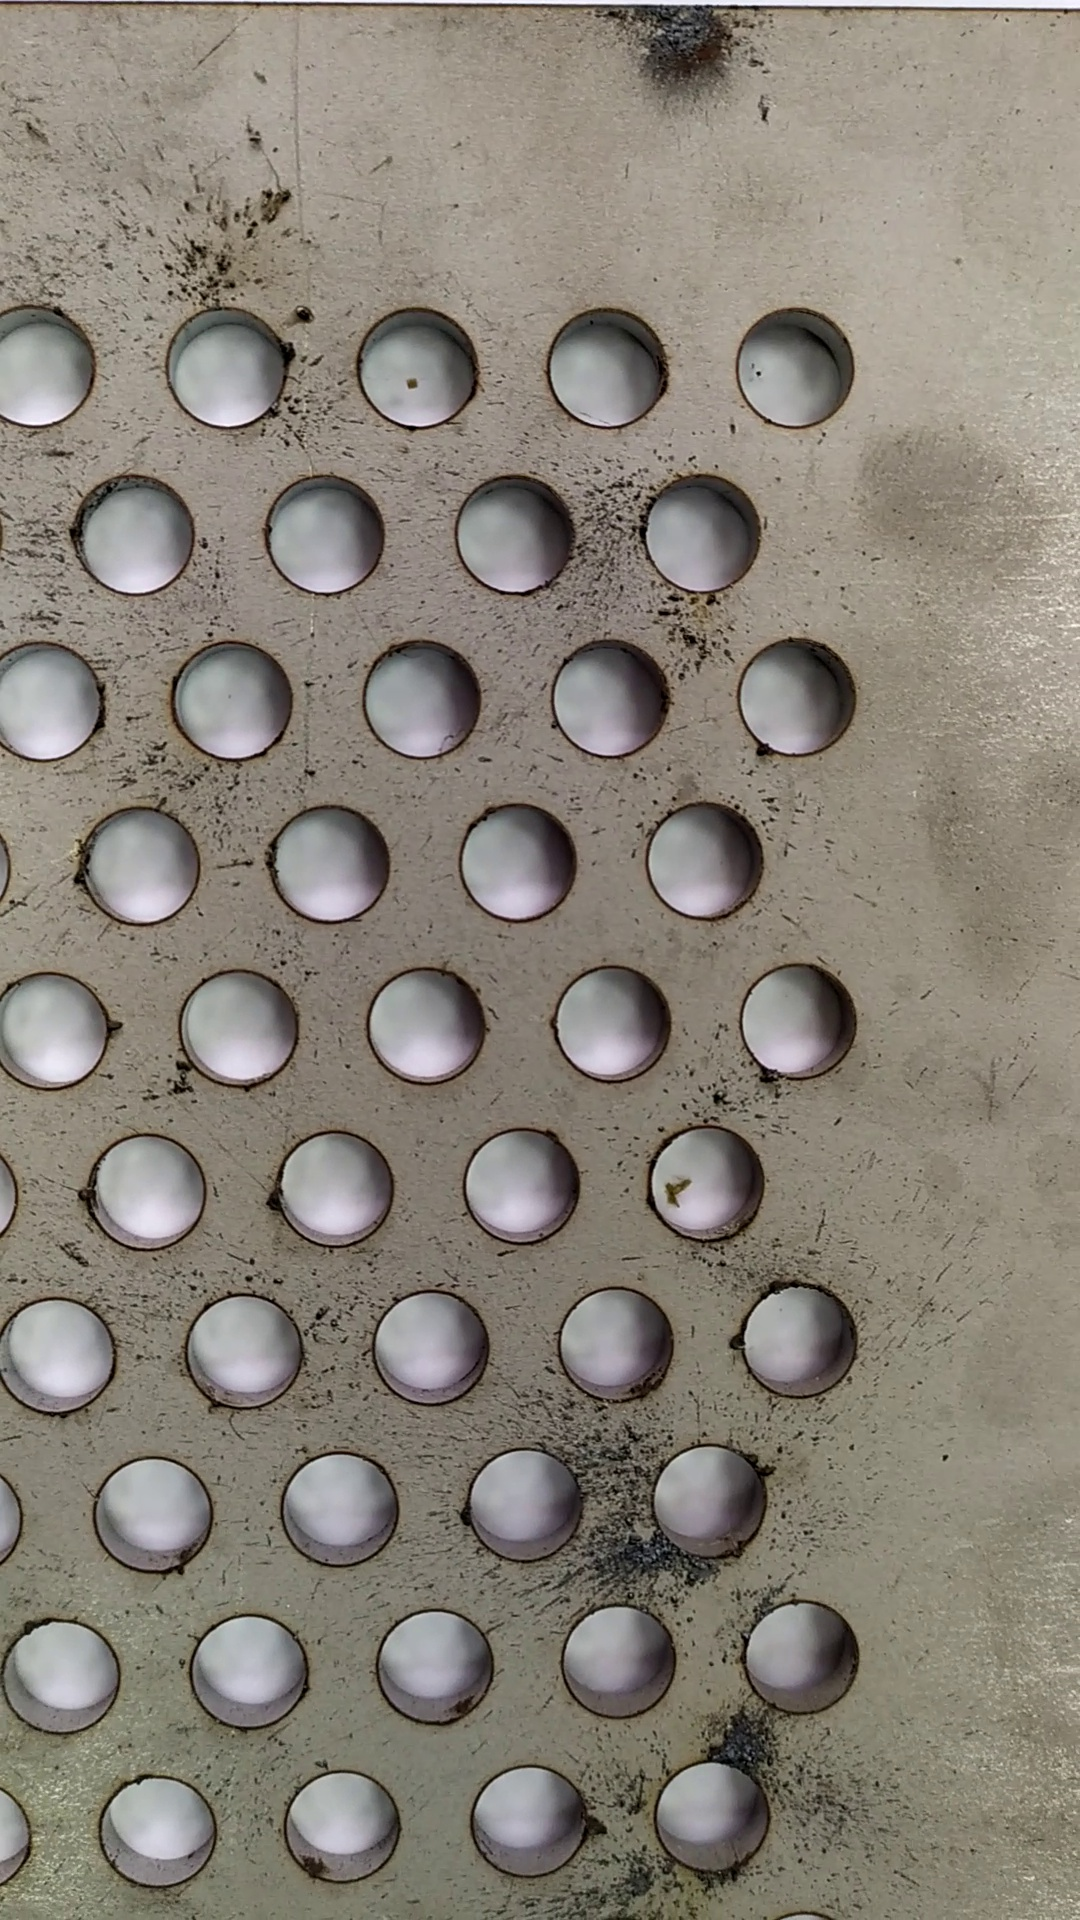Hole: (727, 1271, 891, 1407), (149, 295, 301, 440), (724, 299, 872, 444), (636, 1117, 800, 1246), (157, 628, 310, 766), (59, 465, 208, 607), (638, 789, 783, 930), (71, 1120, 216, 1261), (727, 628, 872, 766), (175, 1604, 322, 1741), (535, 297, 676, 438), (727, 953, 872, 1091), (173, 1287, 320, 1422), (630, 469, 789, 595), (257, 465, 398, 605), (345, 295, 489, 433), (444, 791, 585, 930), (359, 1601, 508, 1731), (727, 1596, 876, 1726), (645, 1754, 791, 1884), (258, 795, 406, 924), (359, 1283, 502, 1415), (357, 956, 495, 1093), (543, 956, 676, 1097), (262, 1122, 407, 1251), (440, 464, 579, 599), (455, 1440, 600, 1568), (272, 1764, 418, 1891), (454, 1120, 591, 1254), (272, 1448, 418, 1573), (541, 630, 675, 766), (351, 630, 492, 760), (171, 960, 313, 1089), (638, 1437, 779, 1567), (69, 800, 206, 932), (547, 1276, 684, 1408), (88, 1447, 224, 1578), (91, 1768, 233, 1894), (3, 1615, 135, 1749), (463, 1756, 597, 1887), (553, 1597, 691, 1724), (1, 1288, 128, 1422)
